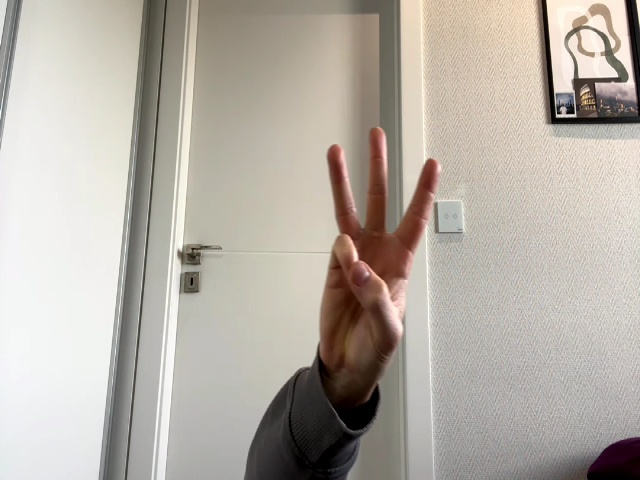W: (319, 127, 440, 382)
